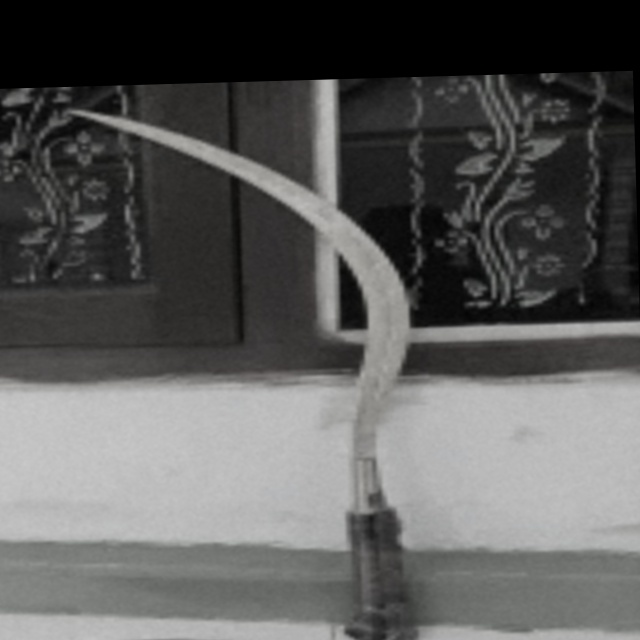Sharp-Object: (66, 97, 455, 640)
